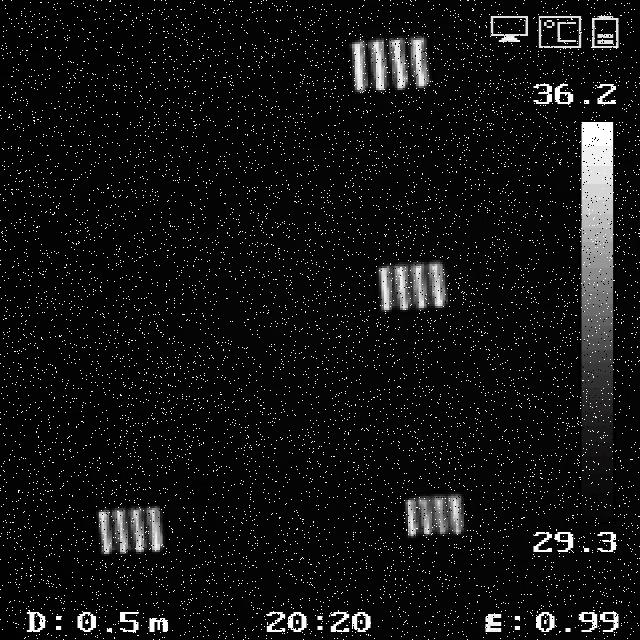Distinguishable 4-bar target: (344, 34, 432, 93), (378, 262, 451, 310), (99, 506, 165, 553)
threshold 4-bar target: (408, 495, 465, 536)
